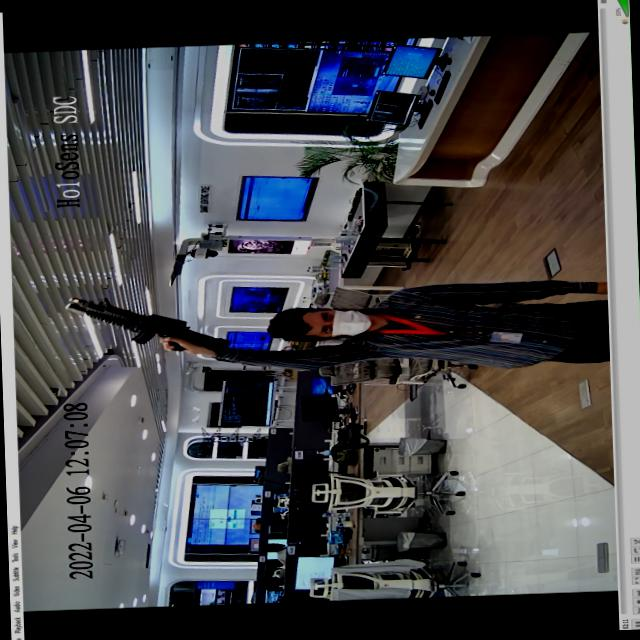long weapon: (49, 278, 255, 374)
